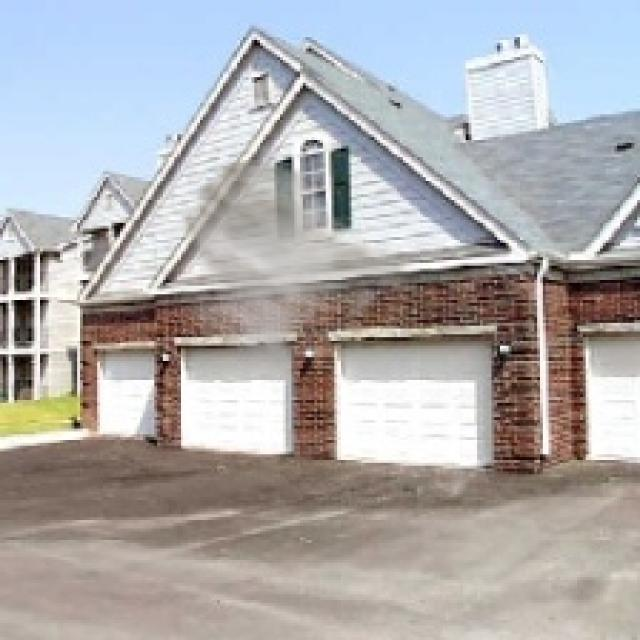smoke: (160, 140, 420, 369)
